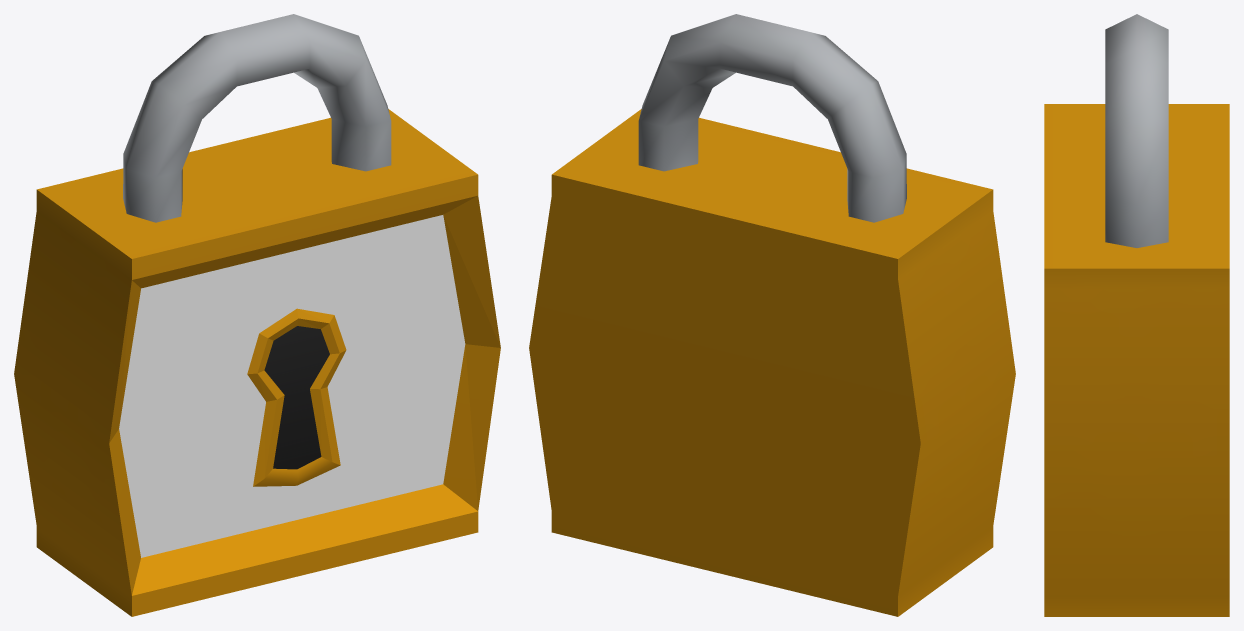
File: lock1.FBX
The picture shows the model from 3 angles, left to right: view 1: azimuth 30°, elevation 25°; view 2: azimuth 150°, elevation 25°; view 3: azimuth 270°, elevation 25°; orthographic projection. The views are drawn at different scales.
Visible parts, largest first — view 1: Torus001; view 2: Torus001; view 3: Torus001.
Part boxes in pixels (left/top/right/bottom): Torus001: left=14, top=14, right=500, bottom=616; Torus001: left=529, top=14, right=1015, bottom=616; Torus001: left=1044, top=14, right=1229, bottom=616.
Size of the model in its own units: 36.66 by 15.42 by 46.23.
